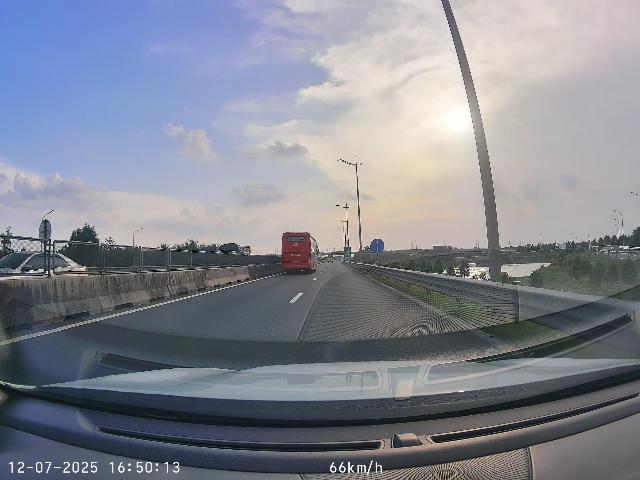301a-cac-xe-chi-duoc-di-thang: (370, 238, 385, 253)
